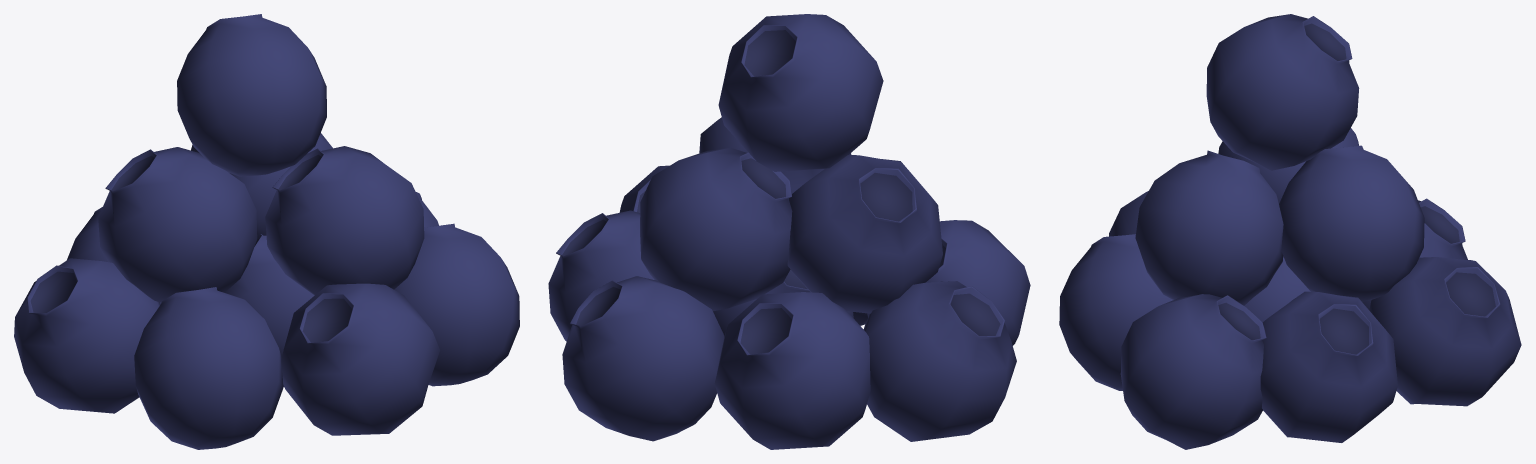
File: blueberry.glb
3 renders of one model, left to right at view 1: azimuth 30°, elevation 25°; view 2: azimuth 150°, elevation 25°; view 3: azimuth 270°, elevation 25°, orthographic. The views are drawn at different scales.
Visible parts, largest first — view 1: Sphere.012, Sphere.007, Sphere.006, Sphere.010, Sphere.011, Sphere, Sphere.005, Sphere.008, Sphere.009, Sphere.002; view 2: Sphere.003, Sphere.012, Sphere.002, Sphere.009, Sphere, Sphere.010, Sphere.004, Sphere.007, Sphere.011, Sphere.008, Sphere.005; view 3: Sphere.012, Sphere.005, Sphere.011, Sphere.009, Sphere.004, Sphere.003, Sphere.006, Sphere.002, Sphere.008, Sphere.010, Sphere.007.
Part boxes in pixels (x1,y1,x2,y2): Sphere.012: [177, 14, 326, 176]; Sphere.007: [134, 287, 283, 449]; Sphere.006: [281, 283, 439, 435]; Sphere.010: [98, 147, 257, 302]; Sphere.011: [265, 146, 424, 295]; Sphere: [14, 258, 160, 413]; Sphere.005: [394, 223, 519, 386]; Sphere.008: [225, 234, 314, 387]; Sphere.009: [191, 133, 332, 239]; Sphere.002: [67, 207, 161, 303]; Sphere.003: [562, 276, 724, 441]; Sphere.012: [718, 14, 883, 171]; Sphere.002: [714, 292, 870, 449]; Sphere.009: [640, 147, 792, 311]; Sphere: [863, 281, 1016, 441]; Sphere.010: [787, 155, 942, 313]; Sphere.004: [548, 210, 654, 341]; Sphere.007: [867, 220, 1030, 345]; Sphere.011: [699, 117, 851, 193]; Sphere.008: [713, 269, 853, 336]; Sphere.005: [619, 165, 669, 212]; Sphere.012: [1206, 14, 1359, 170]; Sphere.005: [1120, 294, 1266, 449]; Sphere.011: [1135, 150, 1283, 305]; Sphere.009: [1279, 145, 1424, 301]; Sphere.004: [1260, 291, 1397, 442]; Sphere.003: [1369, 257, 1521, 406]; Sphere.006: [1059, 234, 1173, 390]; Sphere.002: [1362, 198, 1467, 309]; Sphere.008: [1244, 256, 1310, 321]; Sphere.010: [1218, 128, 1359, 203]; Sphere.007: [1109, 191, 1148, 236].
Size of the model in its own units: 6.21 by 4.92 by 5.91.
